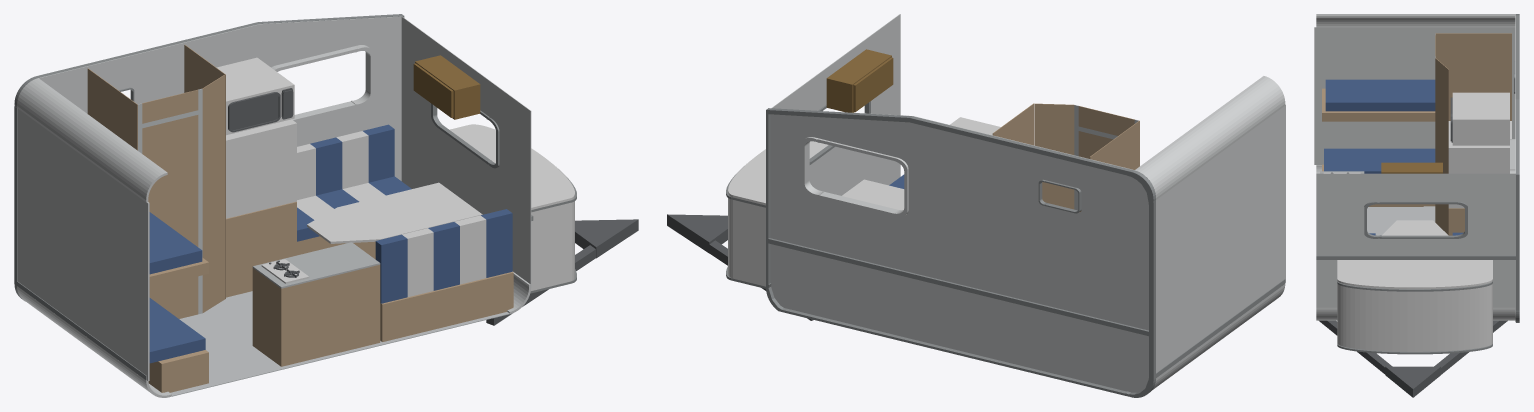
Rendered from VISTA INTERIOR 1.glb.
3 renders of one model, left to right at view 1: azimuth 30°, elevation 25°; view 2: azimuth 150°, elevation 25°; view 3: azimuth 270°, elevation 25°, orthographic. The views are drawn at different scales.
Parts seen in each view (by area): view 1: Mesh_Mesh_head_geo.001_lambert2SG.001; view 2: Mesh_Mesh_head_geo.001_lambert2SG.001; view 3: Mesh_Mesh_head_geo.001_lambert2SG.001.
Part boxes in pixels (x1,y1,x2,y2): Mesh_Mesh_head_geo.001_lambert2SG.001: [14, 14, 638, 397]; Mesh_Mesh_head_geo.001_lambert2SG.001: [667, 14, 1285, 397]; Mesh_Mesh_head_geo.001_lambert2SG.001: [1314, 14, 1519, 397].
Size of the model in its own units: 0.258 by 0.104 by 0.107.
